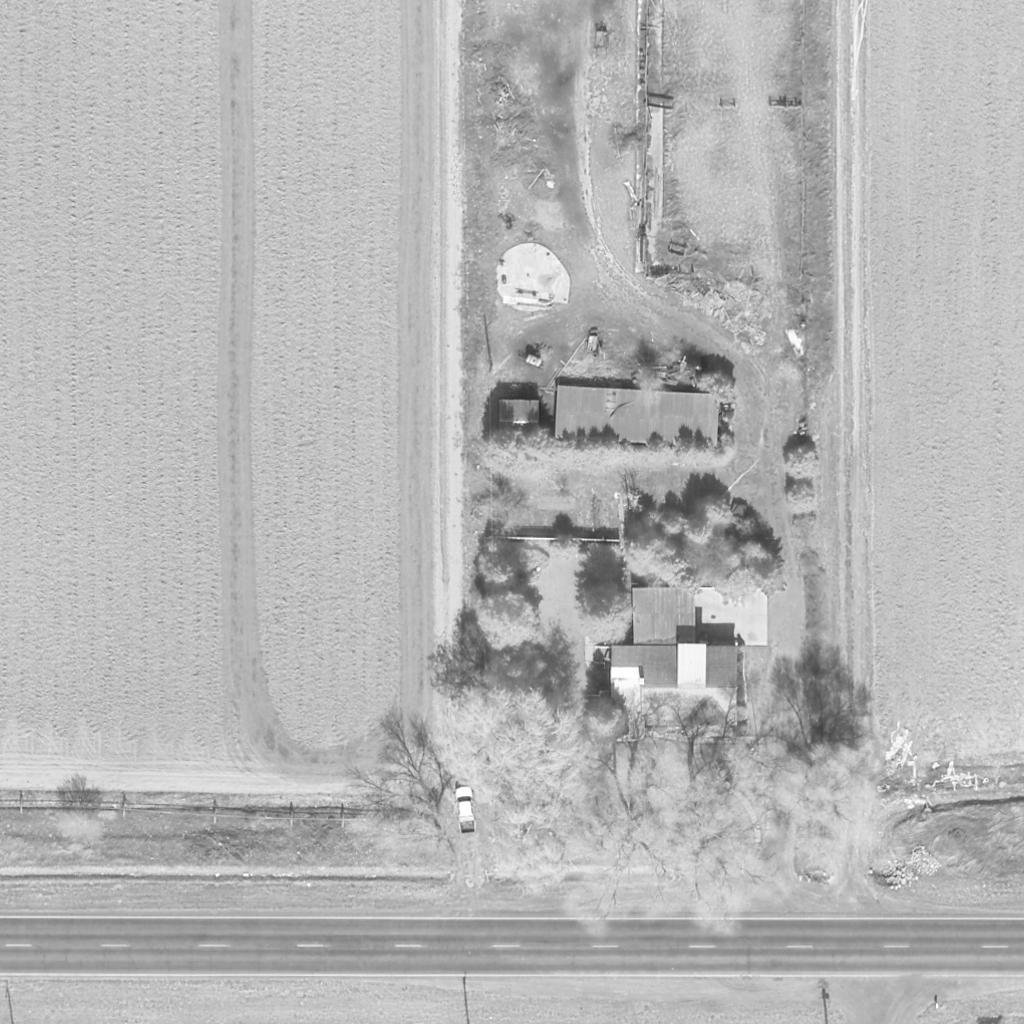vehicle: (455, 787, 479, 835)
